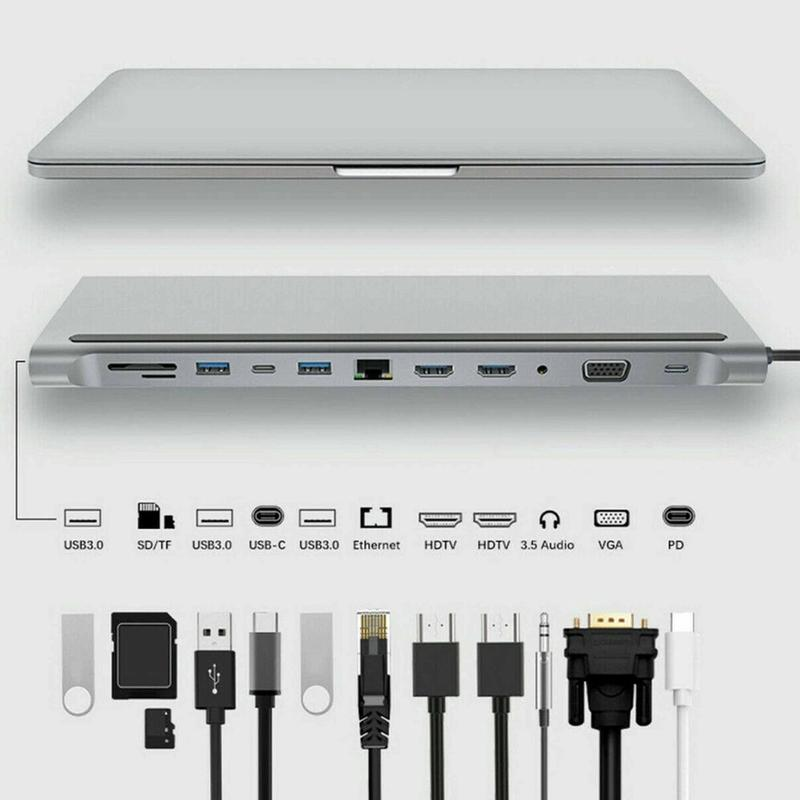AUDIO: (527, 349, 562, 389)
ETHERNET: (345, 343, 397, 389)
HDMI: (407, 352, 461, 383), (474, 354, 519, 383)
USB: (187, 349, 232, 384), (293, 355, 336, 385)
USBC: (244, 351, 286, 384)
VGA: (569, 348, 647, 398)
